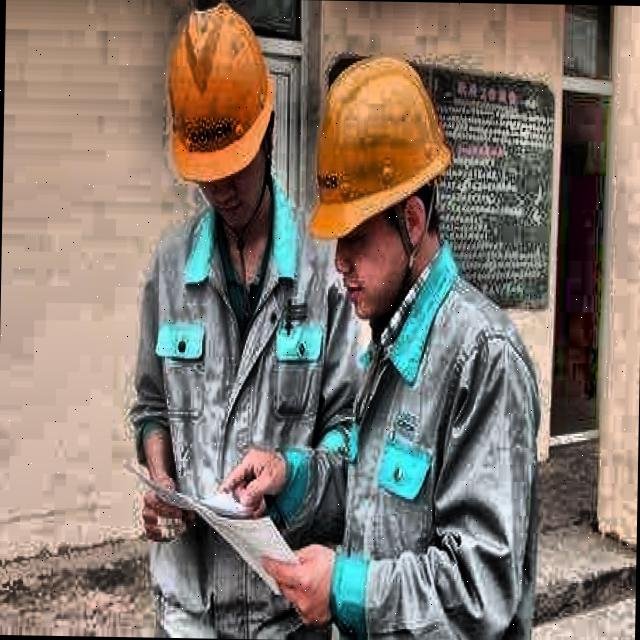helmet: (296, 36, 468, 331), (148, 0, 289, 244)
